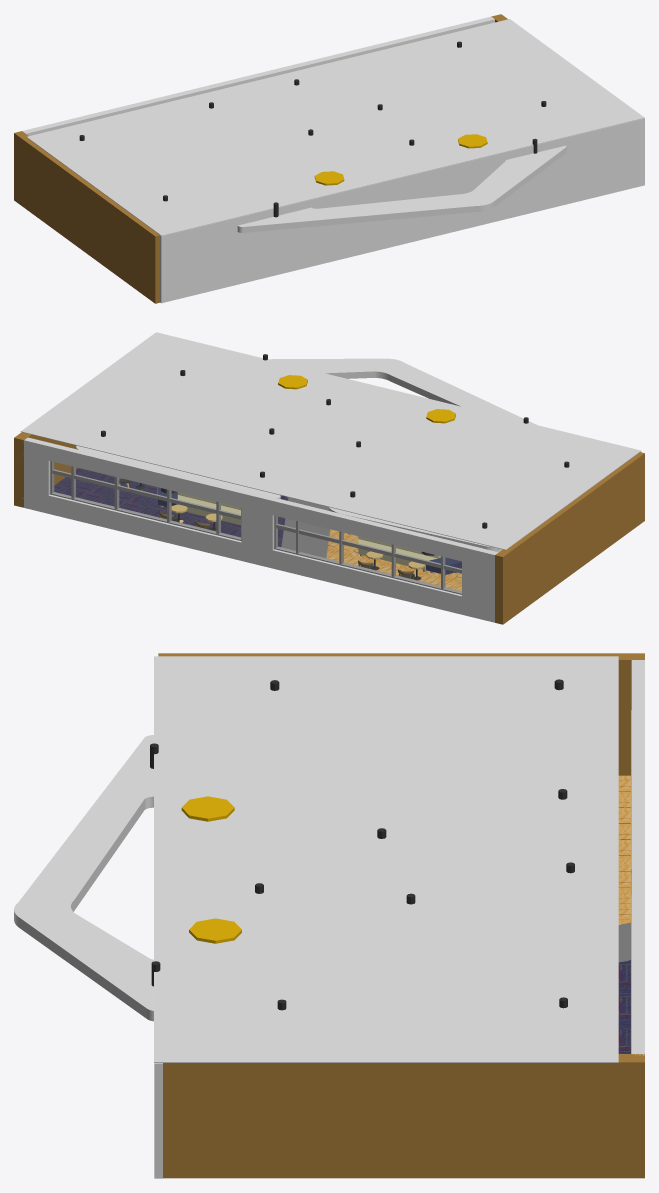
The model's file is FTIC Lounge Area (Updated).fbx.
The picture shows the model from 3 angles, top to bottom: view 1: azimuth 30°, elevation 25°; view 2: azimuth 150°, elevation 25°; view 3: azimuth 270°, elevation 25°; orthographic projection. The views are drawn at different scales.
Visible parts, largest first — view 1: FTIC_Roof, Front_Wall, FTIC_Left_Wall, FTIC_Ceiling_Decor, FTIC_Back_Wall; view 2: FTIC_Roof, FTIC_Back_Wall, FTIC_Left_Wall, FTIC_Floor, FTIC_Back_Window, FTIC_Ceiling_Decor, Main_Sofa_4 (×2), FTIC_Right_Wall, FTIC_Ceiling_Decor2, FTIC_Ceiling_Decor1; view 3: FTIC_Roof, FTIC_Right_Wall, FTIC_Ceiling_Decor, FTIC_Back_Wall, FTIC_Floor, FTIC_Left_Wall, Front_Wall, FTIC_Lounge_Pillar_2, FTIC_Lounge_Pillar_1.
Boxes of the visible parts, <box> form: FTIC_Roof: <box>26,19,644,235</box>; Front_Wall: <box>160,118,644,303</box>; FTIC_Left_Wall: <box>14,131,159,303</box>; FTIC_Ceiling_Decor: <box>237,145,566,232</box>; FTIC_Back_Wall: <box>22,16,494,135</box>; FTIC_Roof: <box>20,332,640,550</box>; FTIC_Back_Wall: <box>22,437,498,622</box>; FTIC_Left_Wall: <box>495,452,644,624</box>; FTIC_Floor: <box>54,468,461,591</box>; FTIC_Back_Window: <box>50,466,461,594</box>; FTIC_Ceiling_Decor: <box>268,358,536,424</box>; Main_Sofa_4 (×2): <box>177,492,440,570</box>; FTIC_Right_Wall: <box>14,432,77,507</box>; FTIC_Ceiling_Decor2: <box>76,445,281,498</box>; FTIC_Ceiling_Decor1: <box>327,507,500,551</box>; FTIC_Roof: <box>154,656,618,1062</box>; FTIC_Right_Wall: <box>163,1054,644,1178</box>; FTIC_Ceiling_Decor: <box>14,735,153,1021</box>; FTIC_Back_Wall: <box>631,660,644,1055</box>; FTIC_Floor: <box>618,775,630,1053</box>; FTIC_Left_Wall: <box>158,653,644,775</box>; Front_Wall: <box>154,1063,162,1178</box>; FTIC_Lounge_Pillar_2: <box>181,796,234,821</box>; FTIC_Lounge_Pillar_1: <box>189,918,241,943</box>.
Size of the model in its own units: 220 by 32.04 by 143.
Materials: 19 (1 with a texture image).
